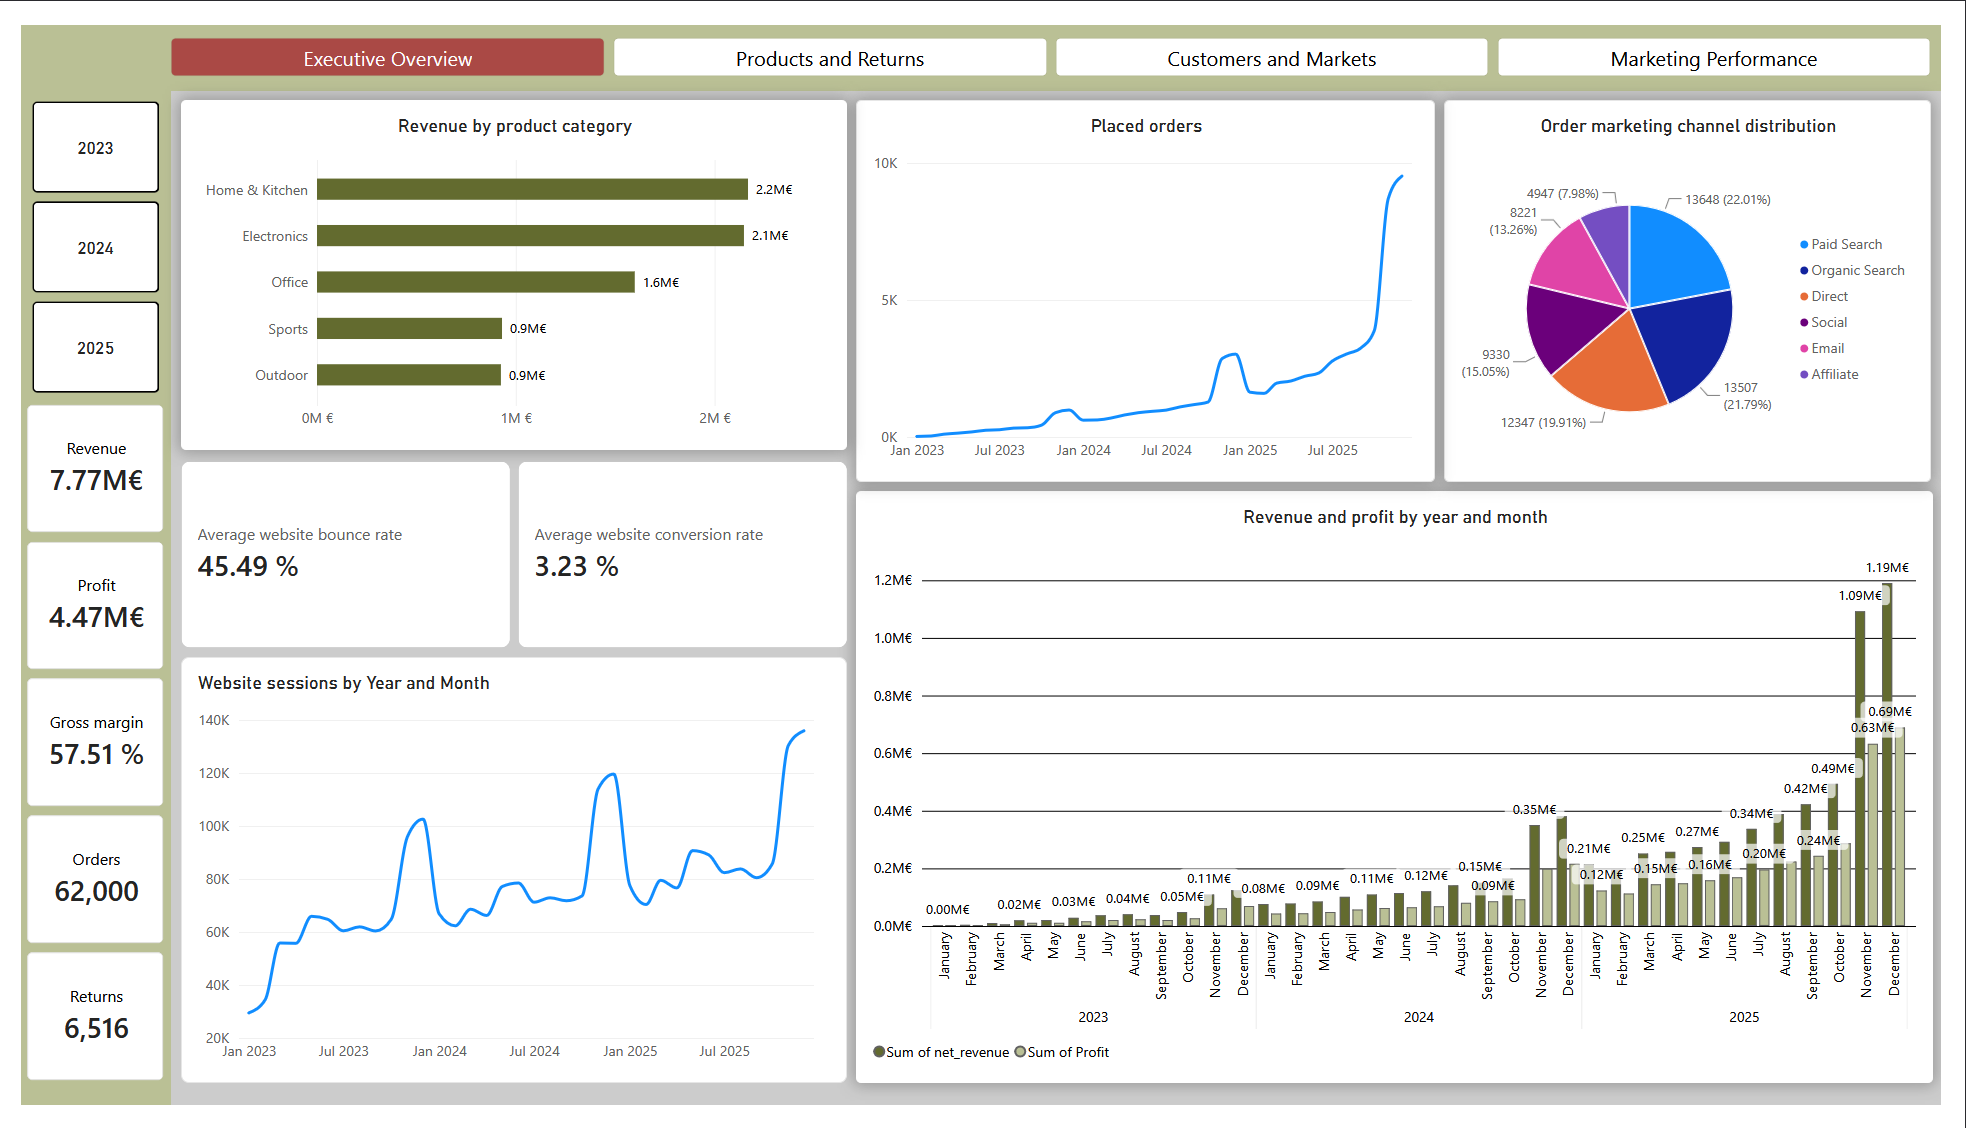

Layout of this report page (visuals, bound fields, positions):
{"tool":"powerbi","page":{"name":"Executive Overview","canvas":[1920,1080],"ordinal":0},"visuals":[{"type":"shape","box":[0,0,150.4,1079.8],"z":0},{"type":"shape","box":[1503.1,0,416.9,65.9],"z":1000},{"type":"shape","box":[0,0,1920,65.9],"z":2000},{"type":"lineClusteredColumnComboChart","title":"Revenue and profit by year and month","fields":{"Category":["orders.order_date.Variation.Date Hierarchy.Year","orders.order_date.Variation.Date Hierarchy.Month"],"Y":["Sum(order_items.net_revenue)","Sum(order_items.Profit)"]},"box":[835,466.2,1076.6,592.1],"z":3000},{"type":"pieChart","title":"Order marketing channel distribution","fields":{"Category":["orders.marketing_channel"],"Y":["CountNonNull(orders.order_date)"]},"box":[1422.6,75.2,487.2,381.4],"z":4000},{"type":"pageNavigator","box":[150.4,12.1,1760.3,39.9],"z":5000},{"type":"lineChart","title":"Placed orders","fields":{"Category":["orders.order_date.Variation.Date Hierarchy.Year","orders.order_date.Variation.Date Hierarchy.Month"],"Y":["CountNonNull(orders.order_id)"]},"box":[835.2,75.2,579.1,381.4],"z":6000},{"type":"advancedSlicerVisual","title":"Year Selection","fields":{"Values":["orders.order_date.Variation.Date Hierarchy.Year"]},"box":[6.2,65.5,136.4,312.7],"z":7000},{"type":"barChart","title":"Revenue by product category","fields":{"Category":["products.category"],"Y":["Sum(order_items.net_revenue)"]},"box":[160.2,74.9,665.7,350.5],"z":8000},{"type":"cardVisual","fields":{"Data":["Sum(order_items.net_revenue)","Sum(order_items.Profit)","select","CountNonNull(orders.order_id)","CountNonNull(returns.return_id)"]},"box":[6.5,378.8,136.5,679.6],"z":9000},{"type":"cardVisual","fields":{"Data":["Avg(website_traffic.bounce_rate)","Avg(website_traffic.conversion_rate)"]},"box":[160.2,435.8,665.7,187.2],"z":10000},{"type":"lineChart","fields":{"Category":["orders.order_date.Variation.Date Hierarchy.Year","orders.order_date.Variation.Date Hierarchy.Month"],"Y":["Sum(website_traffic.sessions)"]},"box":[160.2,632.4,665.7,425.4],"z":11000}]}

Visuals, with their boxes in screenshot pixels (x1, y1, x2, y2), scaled from the page's 1920x1080 canvas onto the 1966x1128 screenshot:
shape: locate(0, 0, 154, 1127)
shape: locate(1539, 0, 1965, 69)
shape: locate(0, 0, 1965, 69)
"Revenue and profit by year and month" lineClusteredColumnComboChart: locate(855, 487, 1957, 1105)
"Order marketing channel distribution" pieChart: locate(1457, 79, 1956, 477)
pageNavigator: locate(154, 13, 1956, 54)
"Placed orders" lineChart: locate(855, 79, 1448, 477)
"Year Selection" advancedSlicerVisual: locate(6, 68, 146, 395)
"Revenue by product category" barChart: locate(164, 78, 846, 444)
cardVisual - Sum(order_items.net_revenue) x Sum(order_items.Profit): locate(7, 396, 146, 1105)
cardVisual - Avg(website_traffic.bounce_rate) x Avg(website_traffic.conversion_rate): locate(164, 455, 846, 651)
lineChart - orders.order_date.Variation.Date Hierarchy.Year x orders.order_date.Variation.Date Hierarchy.Month: locate(164, 661, 846, 1105)
